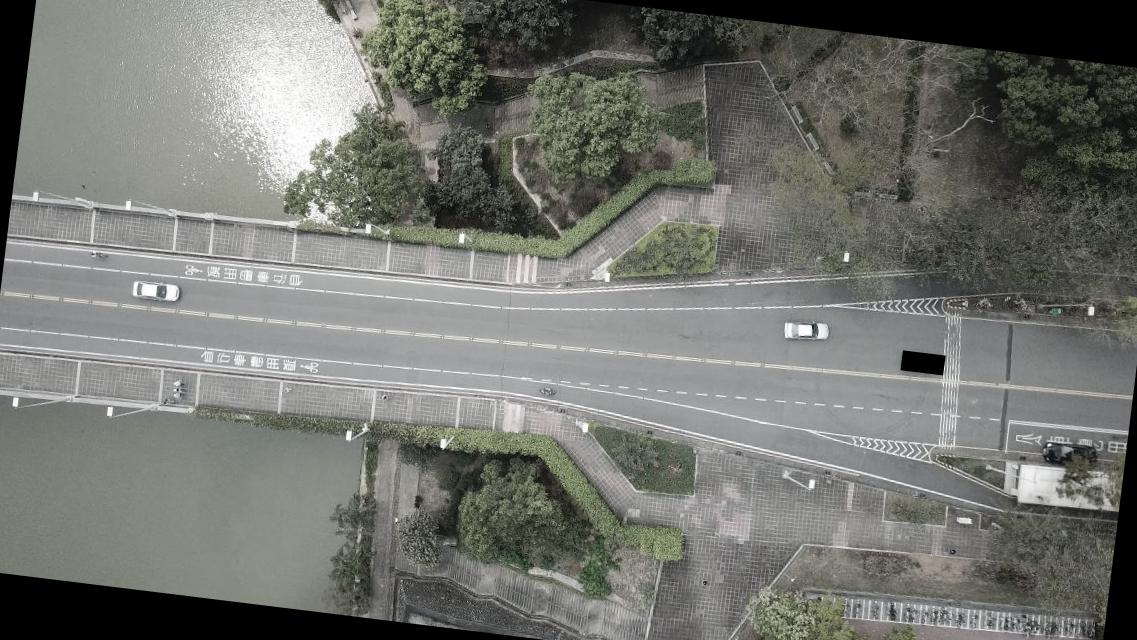vehicle: (1040, 438, 1099, 469), (782, 316, 830, 344), (130, 278, 181, 304)
